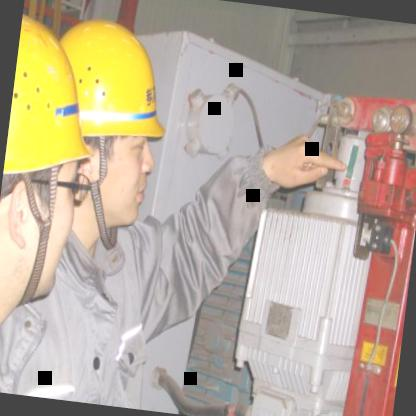helmet: (18, 0, 181, 258), (0, 1, 119, 324)
